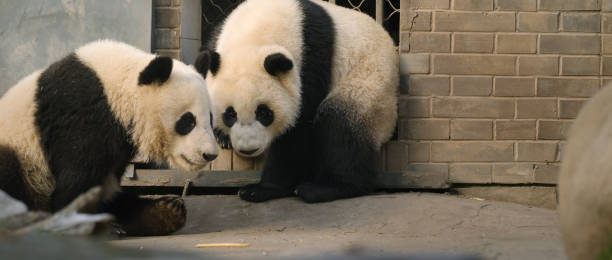panda: (124, 46, 233, 187), (193, 44, 309, 159)
